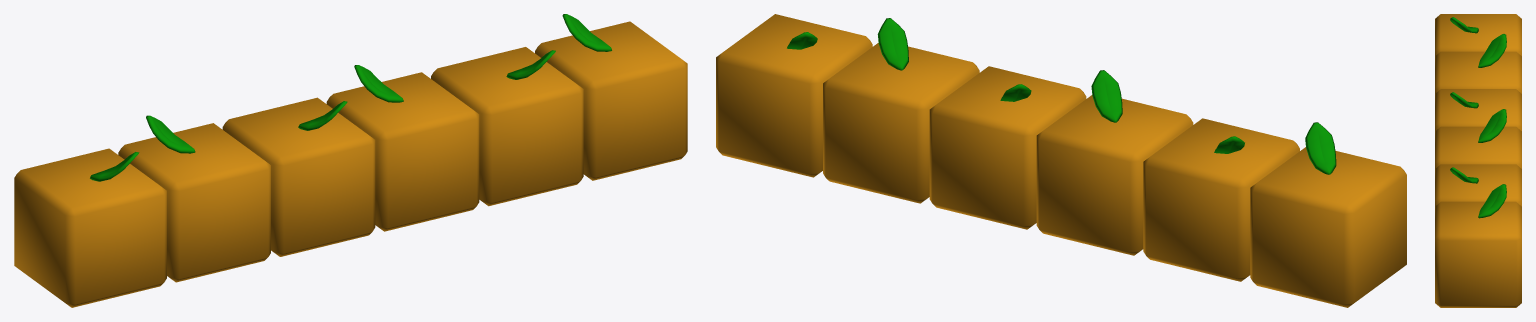
Rendered from cake_orange_6.fbx.
3 views of the same model, side by side, from view 1: azimuth 30°, elevation 25°; view 2: azimuth 150°, elevation 25°; view 3: azimuth 270°, elevation 25° (orthographic). The views are drawn at different scales.
Visible parts, largest first — view 1: 立方体.028; view 2: 立方体.028; view 3: 立方体.028.
Part boxes in pixels (x1,y1,x2,y2): 立方体.028: [14, 14, 687, 307]; 立方体.028: [716, 14, 1406, 307]; 立方体.028: [1435, 14, 1521, 307].
Bounding box in the file's own units: 89.42 × 18.02 × 14.6.
